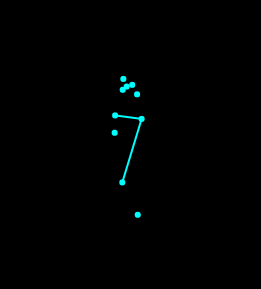warrior_1: (97, 65, 152, 221)
